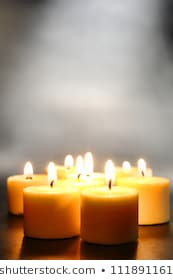Fire: (101, 160, 118, 190), (44, 159, 59, 190), (133, 156, 151, 179), (22, 160, 35, 180), (82, 151, 92, 175), (61, 153, 72, 174), (122, 160, 131, 181), (75, 155, 83, 178)
